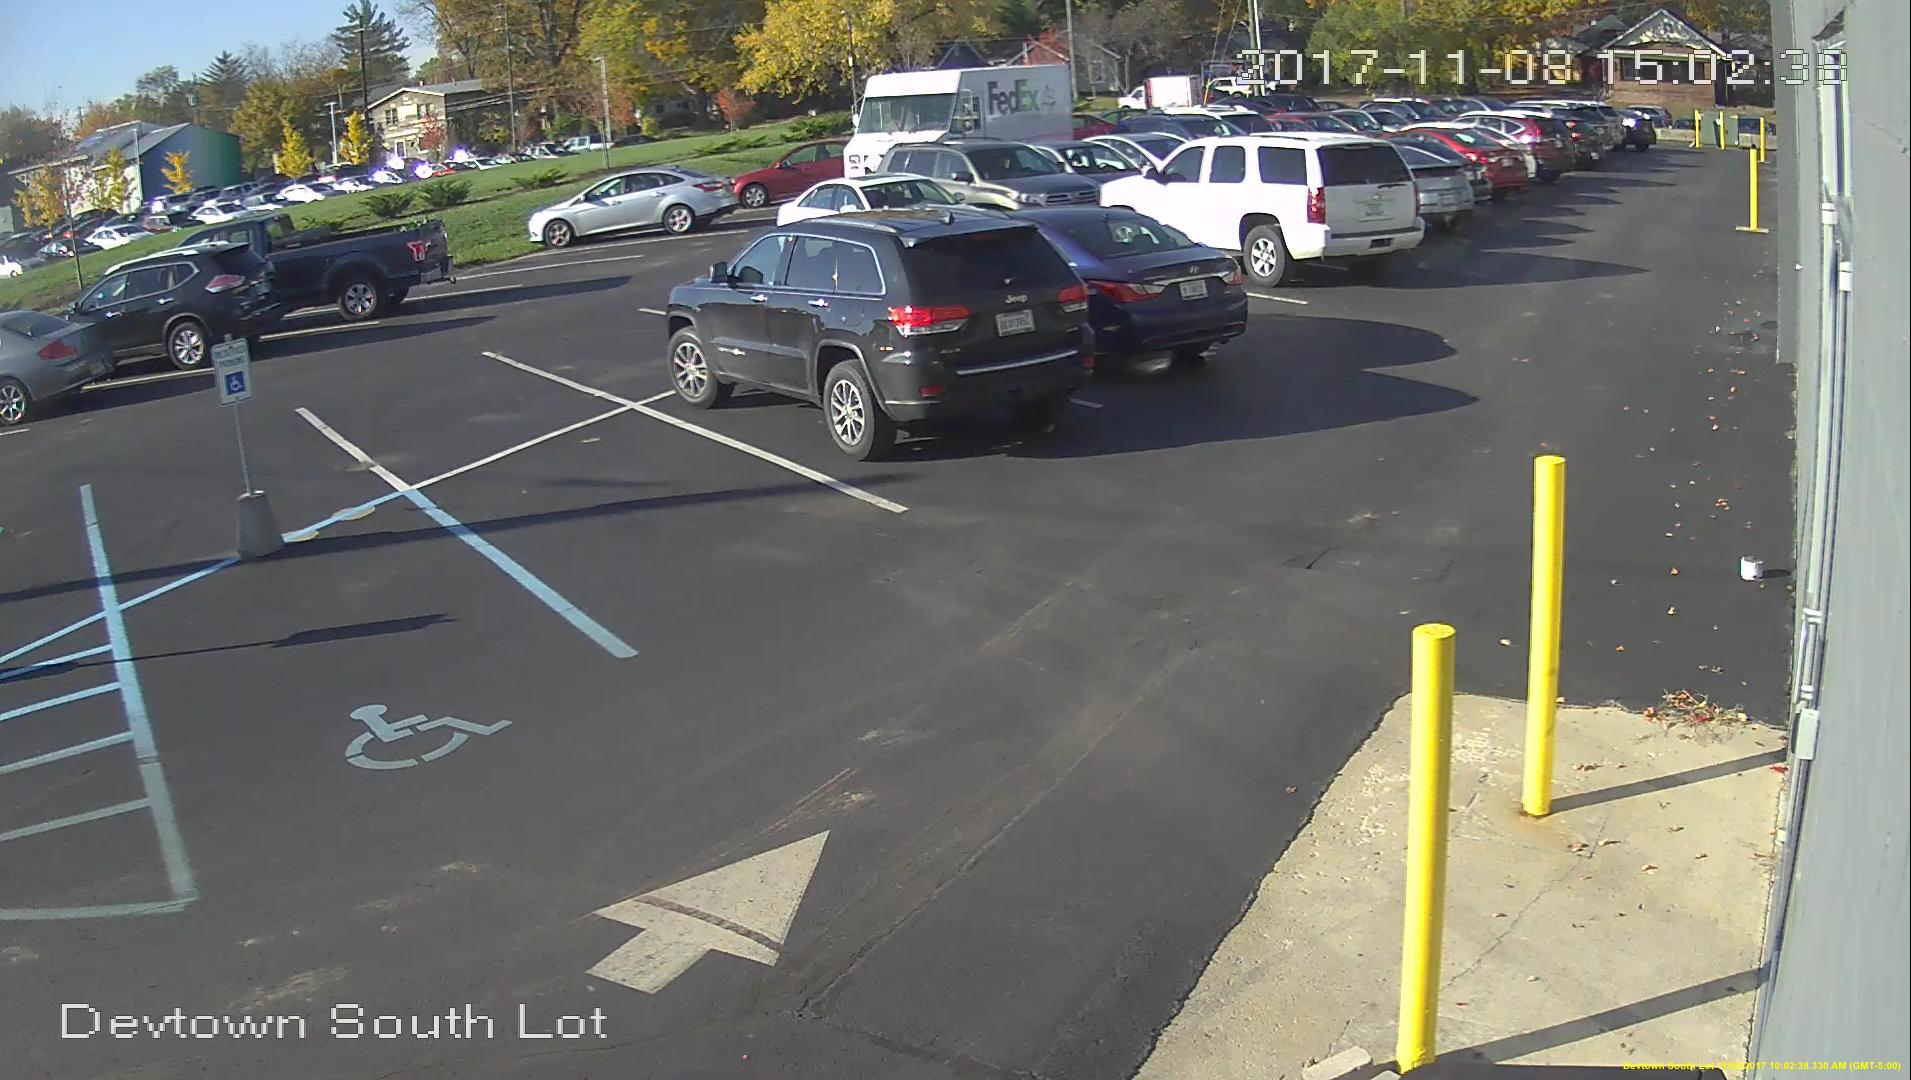fedex_truck: (837, 58, 1081, 184)
